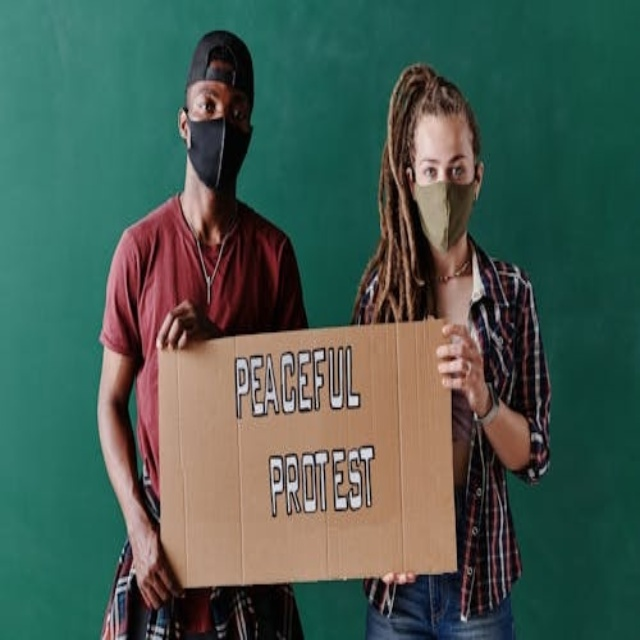Mascara: (184, 111, 250, 191), (411, 175, 476, 253)
Sin_gafas: (192, 86, 246, 121), (420, 150, 472, 177)
Sin_guantes: (131, 521, 182, 609), (434, 321, 483, 402), (152, 300, 212, 348)
